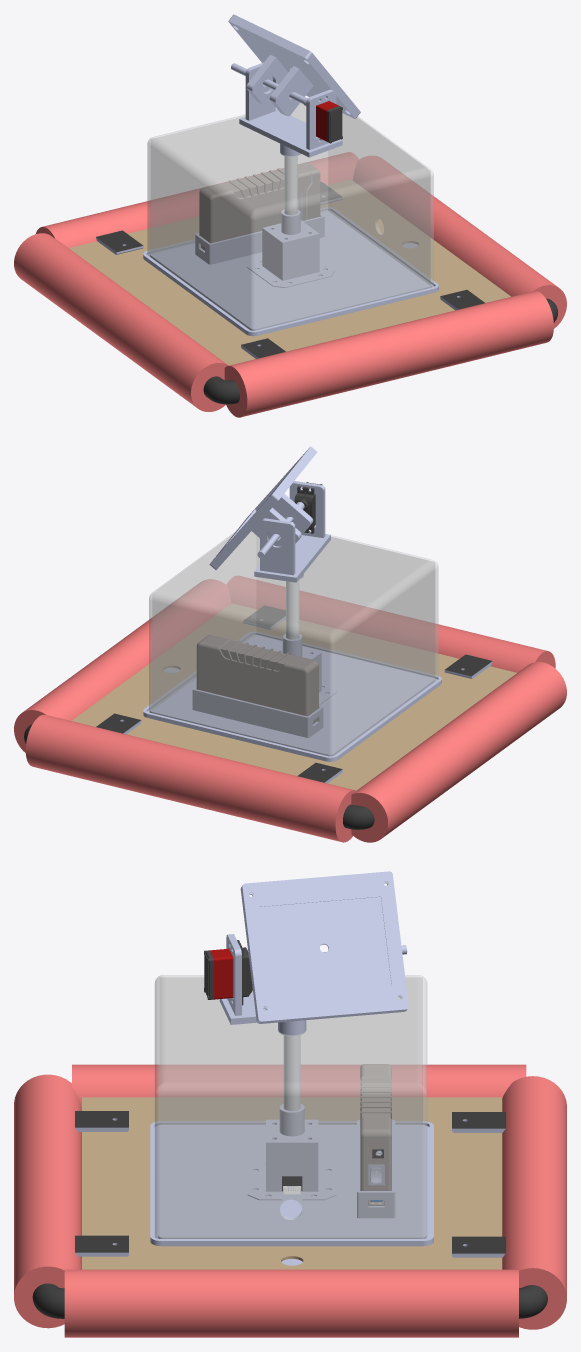
File: final-assembly.glb
3 renders of one model, top to bottom at view 1: azimuth 30°, elevation 25°; view 2: azimuth 150°, elevation 25°; view 3: azimuth 270°, elevation 25°, orthographic. The views are drawn at different scales.
Parts seen in each view (by area): view 1: TupperWareLid-1, MDF plate-1, Pool Noodle Member-2, TupperWare-1, Pool Noodle Member-4, Pool Noodle Member-1, battery_pack-1, Pool Noodle Member-3, Motor Housing V2 (Modular)-1/LightSensorLayout-1/Frame Assem (×2), StepperMotorClamp-2, Motor Housing V2 (Modular)-1/Copy Of Old Servo Mount-1, Battery Housing-1 (+10 smaller); view 2: TupperWareLid-1, MDF plate-1, Pool Noodle Member-3, Pool Noodle Member-4, TupperWare-1, Pool Noodle Member-2, Pool Noodle Member-1, battery_pack-1, Battery Housing-1, Motor Housing V2 (Modular)-1/MotorHousingBearing-1, Motor Housing V2 (Modular)-1/Copy Of Old Servo Mount-1, Motor Housing V2 (Modular)-1/LightSensorLayout-1/TopLayerSol (+11 smaller); view 3: TupperWareLid-1, MDF plate-1, Pool Noodle Member-1, TupperWare-1, Pool Noodle Member-2, Pool Noodle Member-3, Pool Noodle Member-4, Motor Housing V2 (Modular)-1/LightSensorLayout-1/Frame Assem, Motor Housing V2 (Modular)-1/LightSensorLayout-1/TopLayerSol, StepperMotorClamp-2, battery_pack-1, Battery Housing-1 (+11 smaller).
Part boxes in pixels (x1,y1,x2,y2): TupperWareLid-1: [147, 103, 433, 330]; MDF plate-1: [68, 179, 510, 365]; Pool Noodle Member-2: [224, 291, 553, 417]; TupperWare-1: [143, 207, 438, 336]; Pool Noodle Member-4: [14, 233, 228, 411]; Pool Noodle Member-1: [353, 156, 566, 328]; battery_pack-1: [199, 162, 320, 250]; Pool Noodle Member-3: [36, 152, 358, 247]; Motor Housing V2 (Modular)-1/LightSensorLayout-1/Frame Assem (×2): [228, 17, 358, 118]; StepperMotorClamp-2: [247, 220, 334, 287]; Motor Housing V2 (Modular)-1/Copy Of Old Servo Mount-1: [239, 108, 342, 157]; Battery Housing-1: [192, 213, 328, 267]; TupperWareLid-1: [149, 531, 438, 756]; MDF plate-1: [71, 603, 516, 790]; Pool Noodle Member-3: [25, 714, 355, 842]; Pool Noodle Member-4: [351, 662, 566, 842]; TupperWare-1: [143, 632, 441, 761]; Pool Noodle Member-2: [227, 576, 555, 672]; Pool Noodle Member-1: [14, 579, 231, 752]; battery_pack-1: [196, 635, 318, 723]; Battery Housing-1: [190, 686, 326, 738]; Motor Housing V2 (Modular)-1/MotorHousingBearing-1: [260, 518, 295, 575]; Motor Housing V2 (Modular)-1/Copy Of Old Servo Mount-1: [254, 534, 330, 582]; Motor Housing V2 (Modular)-1/LightSensorLayout-1/TopLayerSol: [209, 446, 313, 566]; TupperWareLid-1: [155, 975, 426, 1238]; MDF plate-1: [82, 1097, 502, 1269]; Pool Noodle Member-1: [64, 1269, 518, 1337]; TupperWare-1: [150, 1121, 433, 1246]; Pool Noodle Member-2: [14, 1074, 81, 1328]; Pool Noodle Member-3: [502, 1076, 566, 1329]; Pool Noodle Member-4: [72, 1064, 526, 1110]; Motor Housing V2 (Modular)-1/LightSensorLayout-1/Frame Assem: [240, 887, 406, 1023]; Motor Housing V2 (Modular)-1/LightSensorLayout-1/TopLayerSol: [241, 871, 408, 1022]; StepperMotorClamp-2: [247, 1119, 336, 1200]; battery_pack-1: [360, 1064, 391, 1205]; Battery Housing-1: [342, 1120, 410, 1219].
Bounding box in the file's own units: 0.4868 × 0.3384 × 0.4869.
